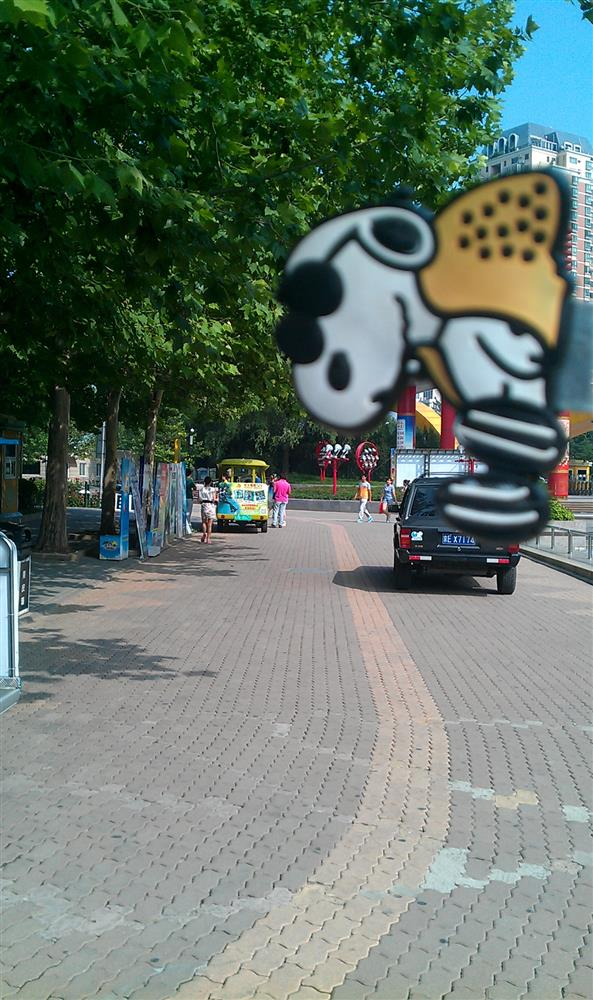DDog: (280, 158, 579, 549)
